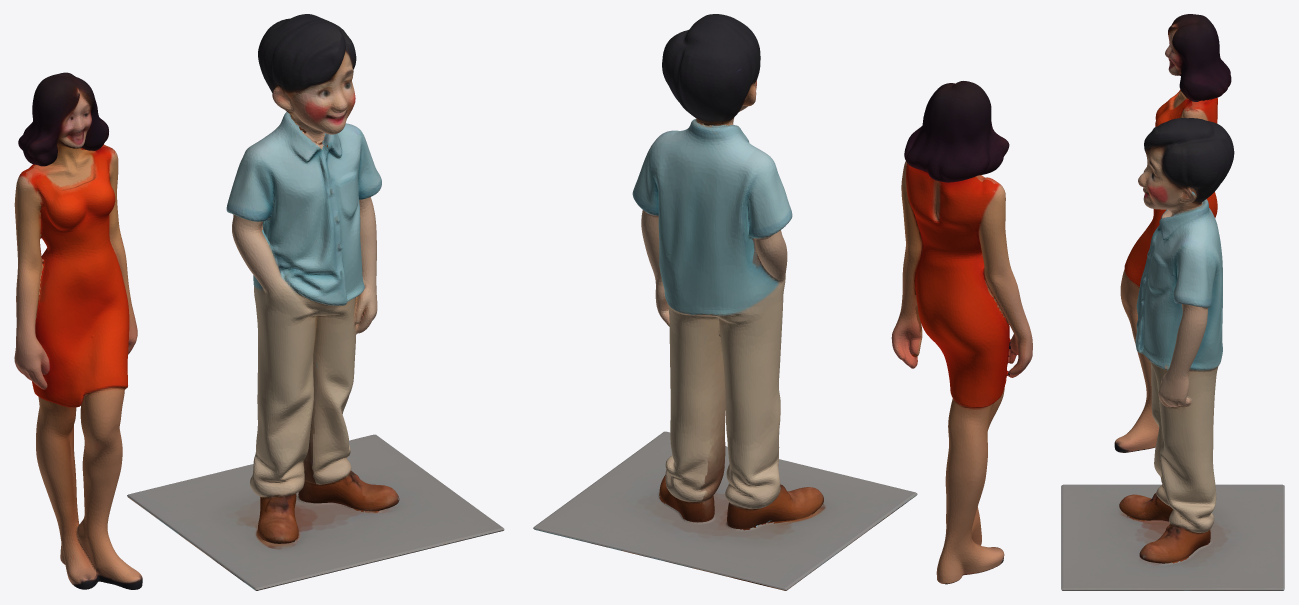
Rendered from garak_cust_couple.glb.
The picture shows the model from 3 angles, left to right: view 1: azimuth 30°, elevation 25°; view 2: azimuth 150°, elevation 25°; view 3: azimuth 270°, elevation 25°; orthographic projection. The views are drawn at different scales.
Parts seen in each view (by area): view 1: couple_man, couple_woman; view 2: couple_man, couple_woman; view 3: couple_man, couple_woman.
Boxes of the visible parts, x1,y1,x2,y2 form: couple_man: (127,14,504,590); couple_woman: (14,72,142,589); couple_man: (533,14,917,590); couple_woman: (891,81,1032,584); couple_man: (1061,118,1284,590); couple_woman: (1114,14,1231,452).
Bounding box in the file's own units: 1.79 × 1.97 × 0.9502.
2 materials, 2 textured.
